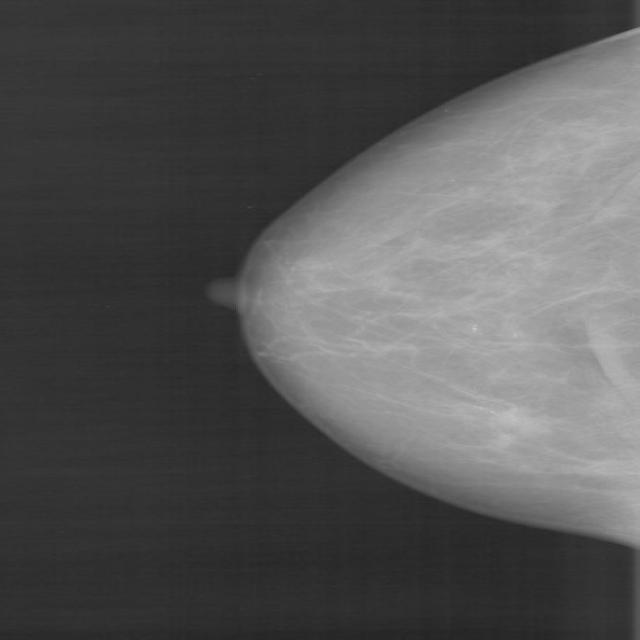tumour: (490, 406, 548, 434)
